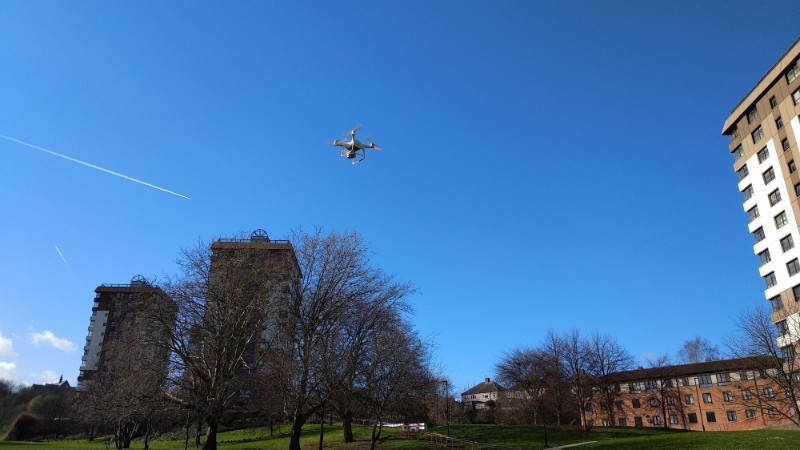drone: (325, 126, 384, 164)
